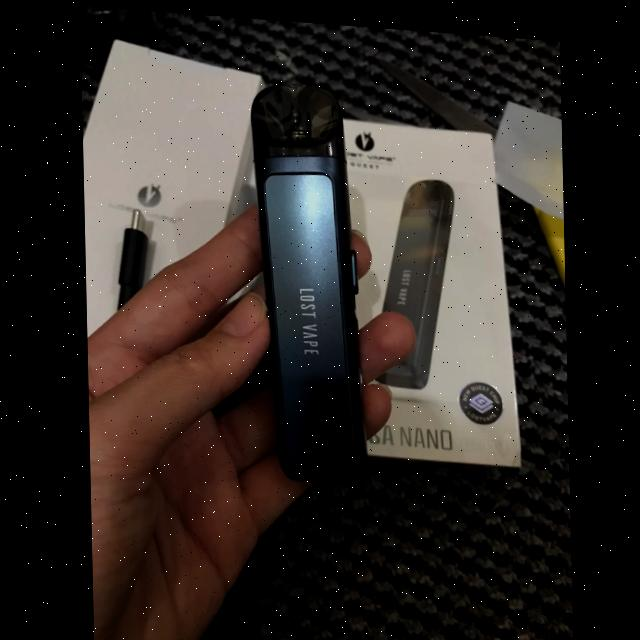vape: (251, 68, 366, 482), (370, 170, 457, 386)
